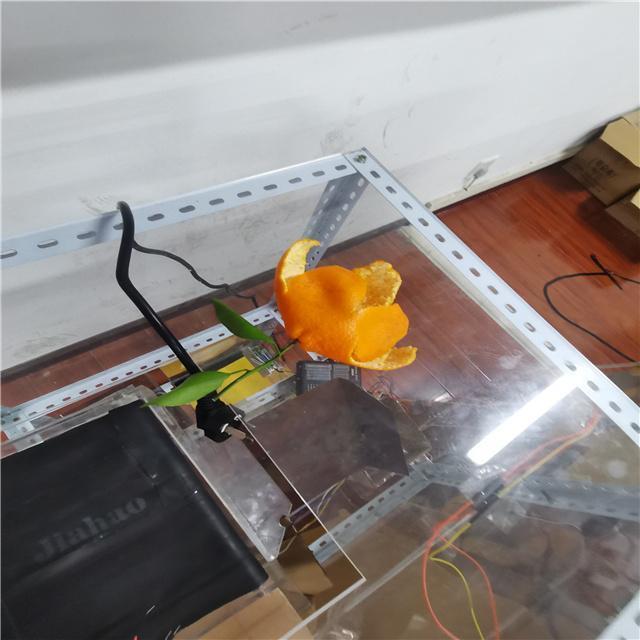orange-peel: (272, 236, 417, 372)
